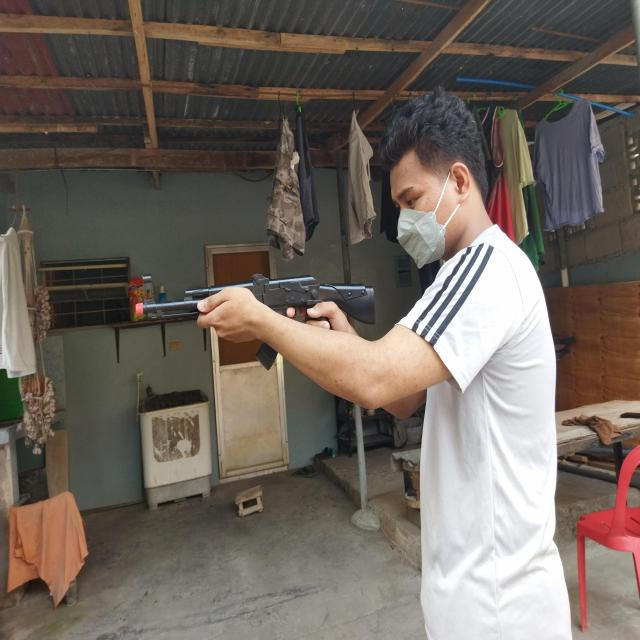rifle: (136, 274, 376, 370)
